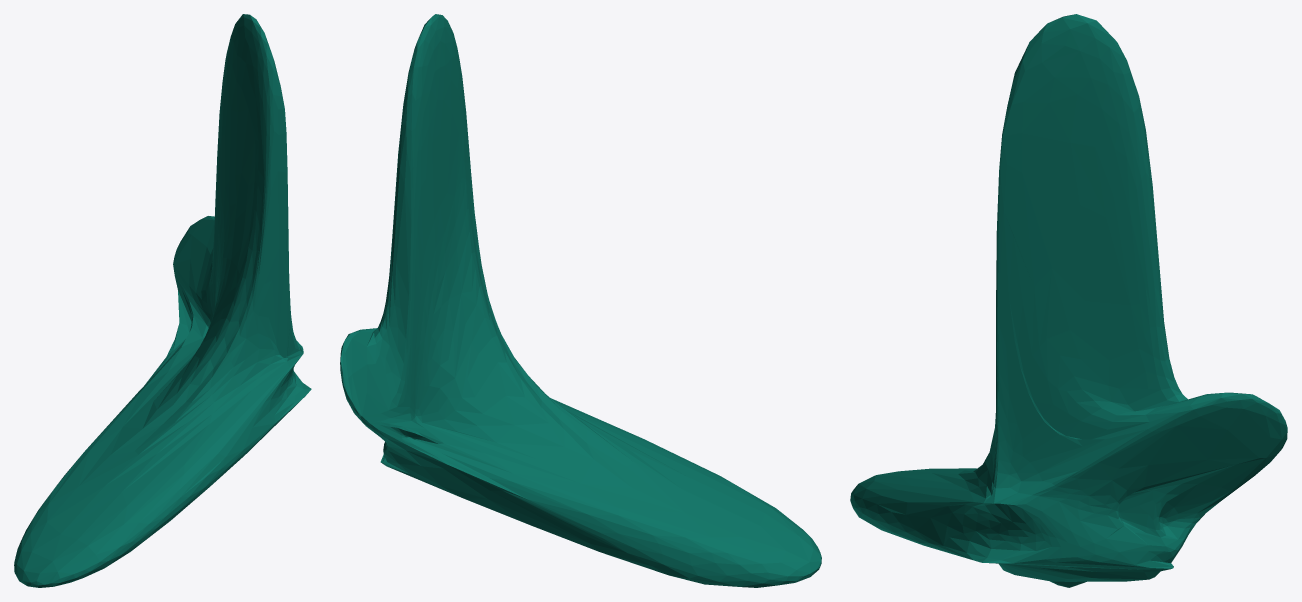
3 renders of one model, left to right at view 1: azimuth 30°, elevation 25°; view 2: azimuth 150°, elevation 25°; view 3: azimuth 270°, elevation 25°, orthographic. The views are drawn at different scales.
Visible parts, largest first — view 1: 623_Cube.2505; view 2: 623_Cube.2505; view 3: 623_Cube.2505.
Part boxes in pixels (box(x1,y1,x2,y2)): 623_Cube.2505: box(14, 14, 311, 587); 623_Cube.2505: box(340, 14, 821, 587); 623_Cube.2505: box(850, 14, 1287, 587).
Bounding box in the file's own units: 9.98 × 14.12 × 8.21.
